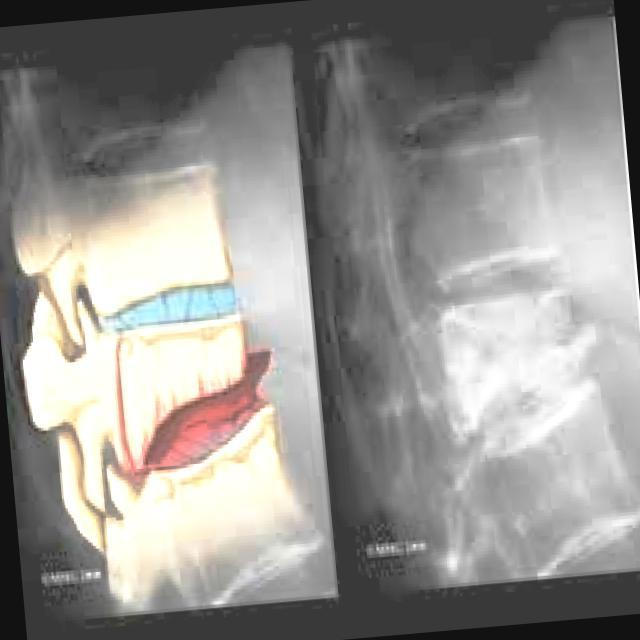Compression-Crush Fracutre: (422, 307, 594, 415), (120, 357, 268, 450)
